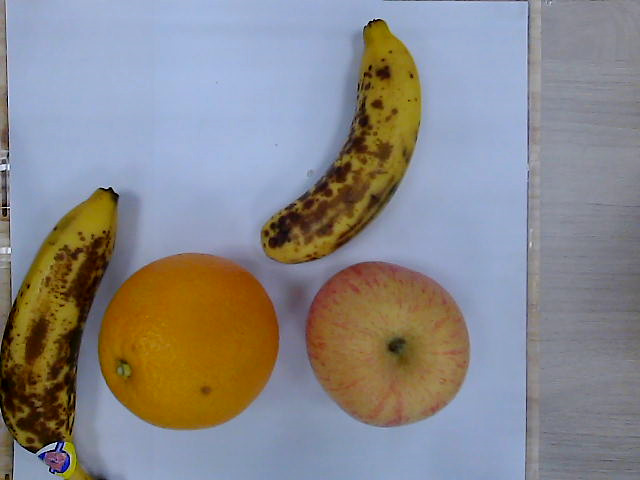fresh_apple: (305, 263, 473, 427)
fresh_orange: (98, 252, 280, 432)
rotten_banana: (258, 18, 422, 263), (3, 188, 119, 480)
